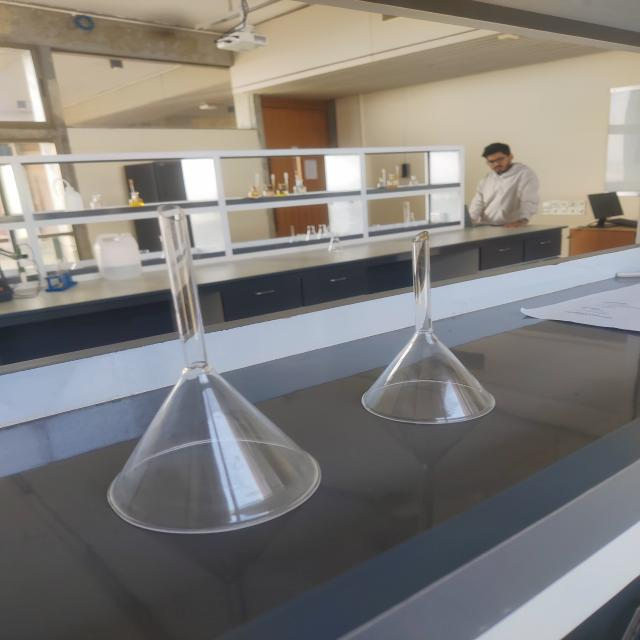Funnel: (68, 183, 346, 551), (342, 224, 534, 468)
